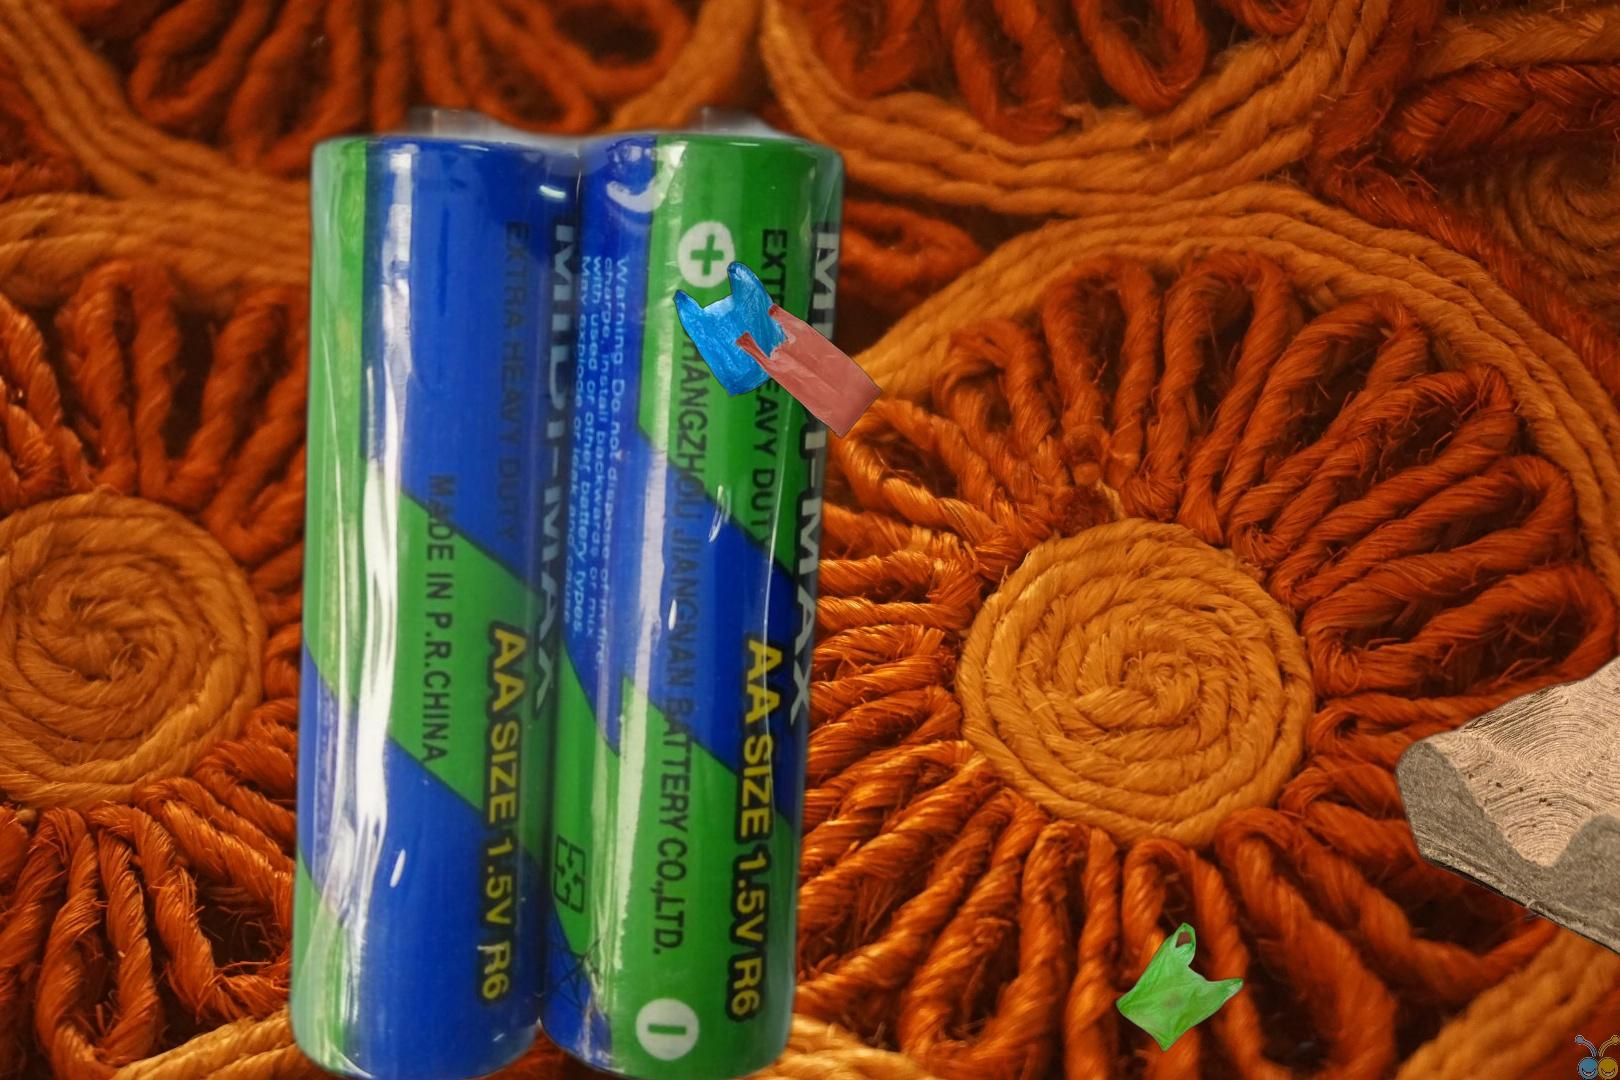battery: (274, 87, 856, 1080)
plastic-bag: (670, 260, 885, 441), (1111, 920, 1322, 1080)
trashbox-cardboard: (1384, 259, 1620, 1054)
